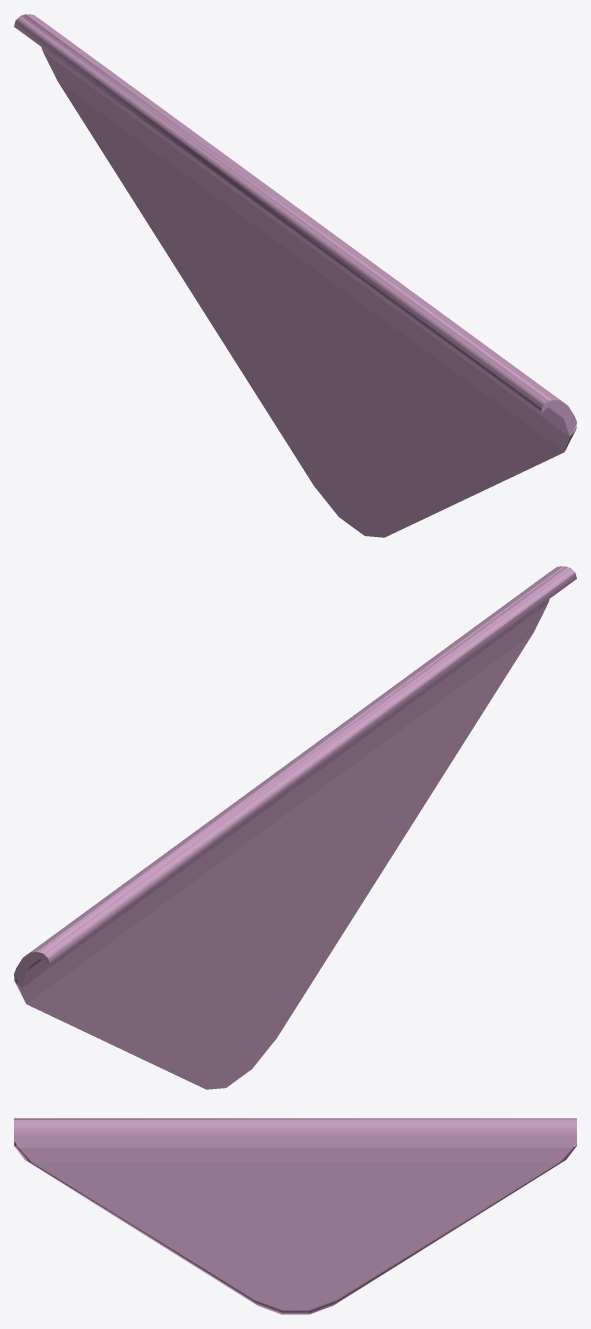
File: envelope-top.glb
3 views of the same model, one above another, from view 1: azimuth 30°, elevation 25°; view 2: azimuth 150°, elevation 25°; view 3: azimuth 270°, elevation 25° (orthographic). The views are drawn at different scales.
Visible parts, largest first — view 1: flap; view 2: flap; view 3: flap.
Part boxes in pixels (left/top/right/bottom): flap: left=14, top=14, right=576, bottom=537; flap: left=14, top=566, right=576, bottom=1089; flap: left=14, top=1118, right=576, bottom=1314.
Size of the model in its own units: 0.1681 by 0.643 by 1.84.
